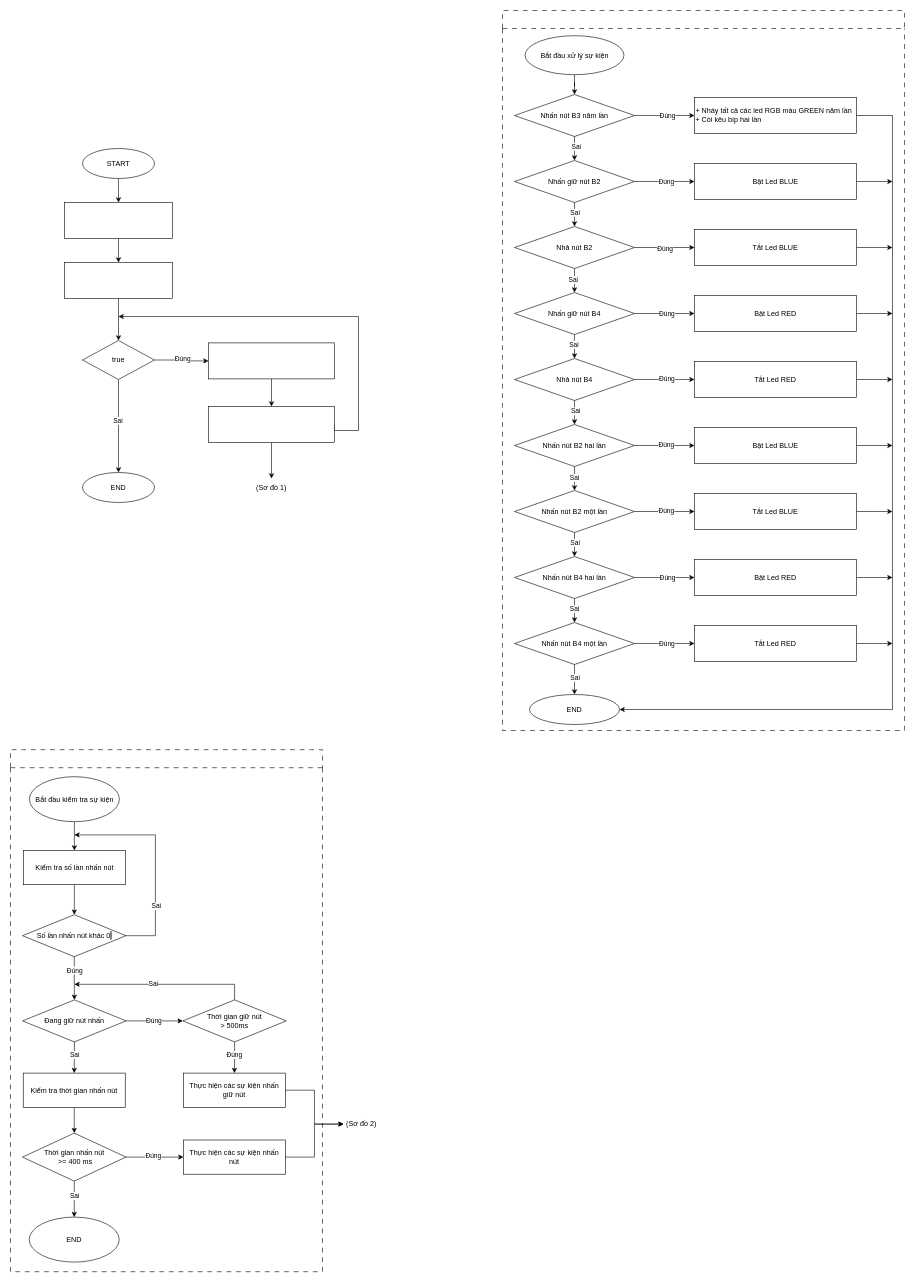
This 915x1282 diagram has some shape labels left out. The shapes that lost their labels are listed below. From the top down, each one's centre as x and y in pixels, then its label:
point 118,220: Khởi tạo và cấu hình các tài nguyên cần sử dụng
point 118,280: Xử lý sự kiện khi bắt đầu cấp nguồn
point 271,360: Ghi nhận sự kiện thông qua ngắt
point 703,370: Sơ đồ 2
point 271,424: Kiểm tra và xử lý sự kiện
point 166,1010: Sơ đồ 1
